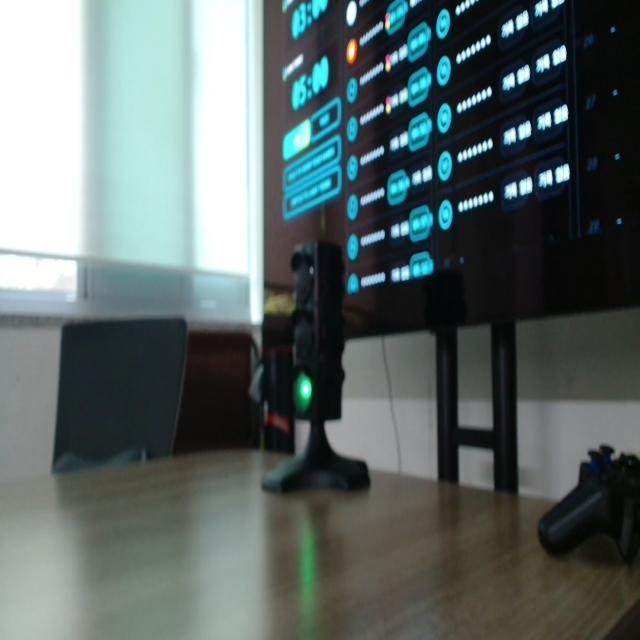green_light: (294, 372, 313, 414)
